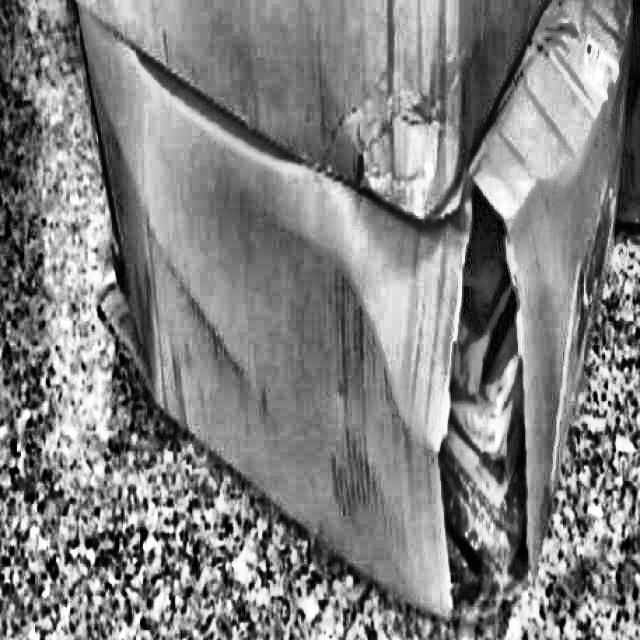box: (57, 0, 636, 634)
hole: (434, 181, 543, 615)
